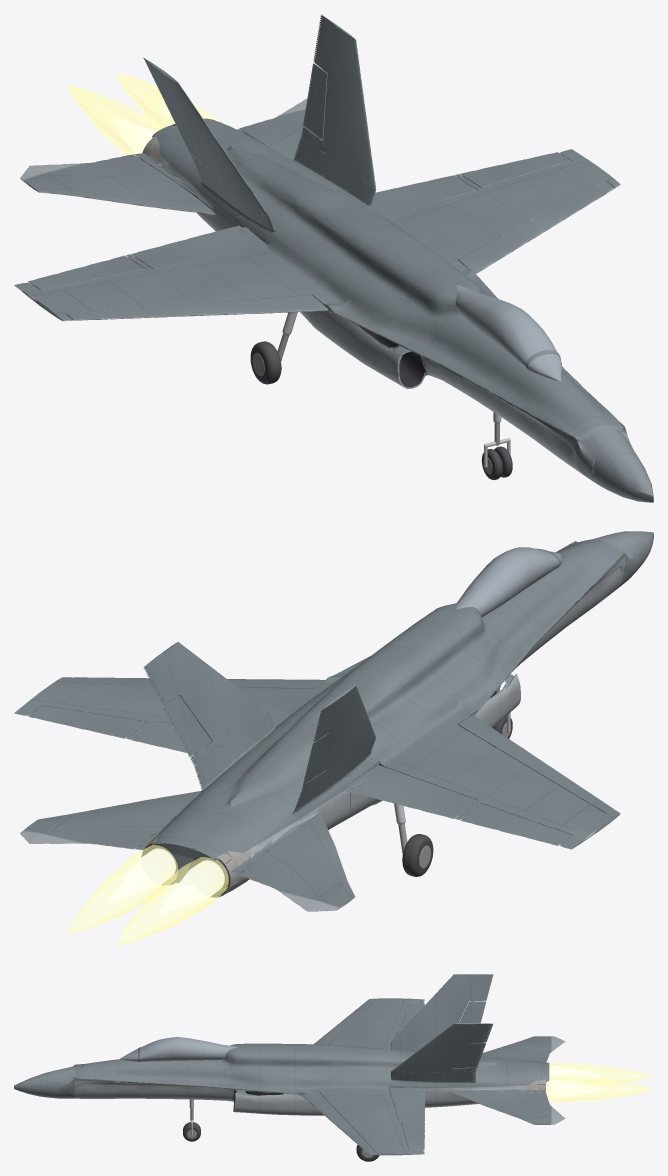
3 views of the same model, one above another, from view 1: azimuth 30°, elevation 25°; view 2: azimuth 150°, elevation 25°; view 3: azimuth 270°, elevation 25° (orthographic). The views are drawn at different scales.
Visible parts, largest first — view 1: airframe, fsim:elevator+aileron:-0.4@-24,10.5, fsim:lef@-3,34 (×2), fsim:flaps (×2), fsim:aileron (×2), fsim:afterburner:1, fsim:elevator+aileron:0.4@-24,10.5, fsim:afterburner:0, fsim:rudder, fsim:wheel:2:0.381, fsim:wheel:0:0.2795; view 2: airframe, fsim:elevator+aileron:-0.4@-24,10.5, fsim:elevator+aileron:0.4@-24,10.5, fsim:afterburner:1, fsim:afterburner:0, fsim:flaps (×2), fsim:aileron (×2), fsim:lef@-3,34 (×2), fsim:rudder (×2), fsim:wheel:2:0.381; view 3: airframe, fsim:elevator+aileron:0.4@-24,10.5, fsim:afterburner:0, fsim:afterburner:1, fsim:lef@-3,34 (×2), fsim:elevator+aileron:-0.4@-24,10.5, fsim:flaps, fsim:rudder (×2), fsim:aileron.
Part boxes in pixels (x1,y1,x2,y2): airframe: [14, 14, 653, 502]; fsim:elevator+aileron:-0.4@-24,10.5: [20, 154, 215, 214]; fsim:lef@-3,34 (×2): [66, 182, 614, 320]; fsim:flaps (×2): [131, 175, 476, 269]; fsim:aileron (×2): [28, 152, 570, 290]; fsim:afterburner:1: [66, 85, 163, 155]; fsim:elevator+aileron:0.4@-24,10.5: [239, 98, 310, 159]; fsim:afterburner:0: [115, 73, 218, 129]; fsim:rudder: [303, 63, 327, 139]; fsim:wheel:2:0.381: [250, 341, 281, 384]; fsim:wheel:0:0.2795: [481, 446, 512, 479]; airframe: [14, 531, 653, 891]; fsim:elevator+aileron:-0.4@-24,10.5: [239, 814, 355, 911]; fsim:elevator+aileron:0.4@-24,10.5: [20, 791, 201, 849]; fsim:afterburner:1: [115, 857, 228, 945]; fsim:afterburner:0: [66, 845, 178, 933]; fsim:flaps (×2): [131, 721, 476, 818]; fsim:aileron (×2): [28, 705, 570, 845]; fsim:lef@-3,34 (×2): [66, 677, 614, 813]; fsim:rudder (×2): [164, 696, 329, 784]; fsim:wheel:2:0.381: [402, 834, 433, 876]; airframe: [14, 974, 549, 1155]; fsim:elevator+aileron:0.4@-24,10.5: [452, 1091, 565, 1124]; fsim:afterburner:0: [546, 1076, 653, 1102]; fsim:afterburner:1: [549, 1062, 653, 1086]; fsim:lef@-3,34 (×2): [301, 1000, 374, 1151]; fsim:elevator+aileron:-0.4@-24,10.5: [481, 1036, 565, 1062]; fsim:flaps: [389, 1087, 425, 1120]; fsim:rudder (×2): [453, 1001, 486, 1068]; fsim:aileron: [401, 1121, 424, 1150].
Size of the model in its own units: 11.43 by 4.86 by 19.95.
Materials: 8 (1 with a texture image).
